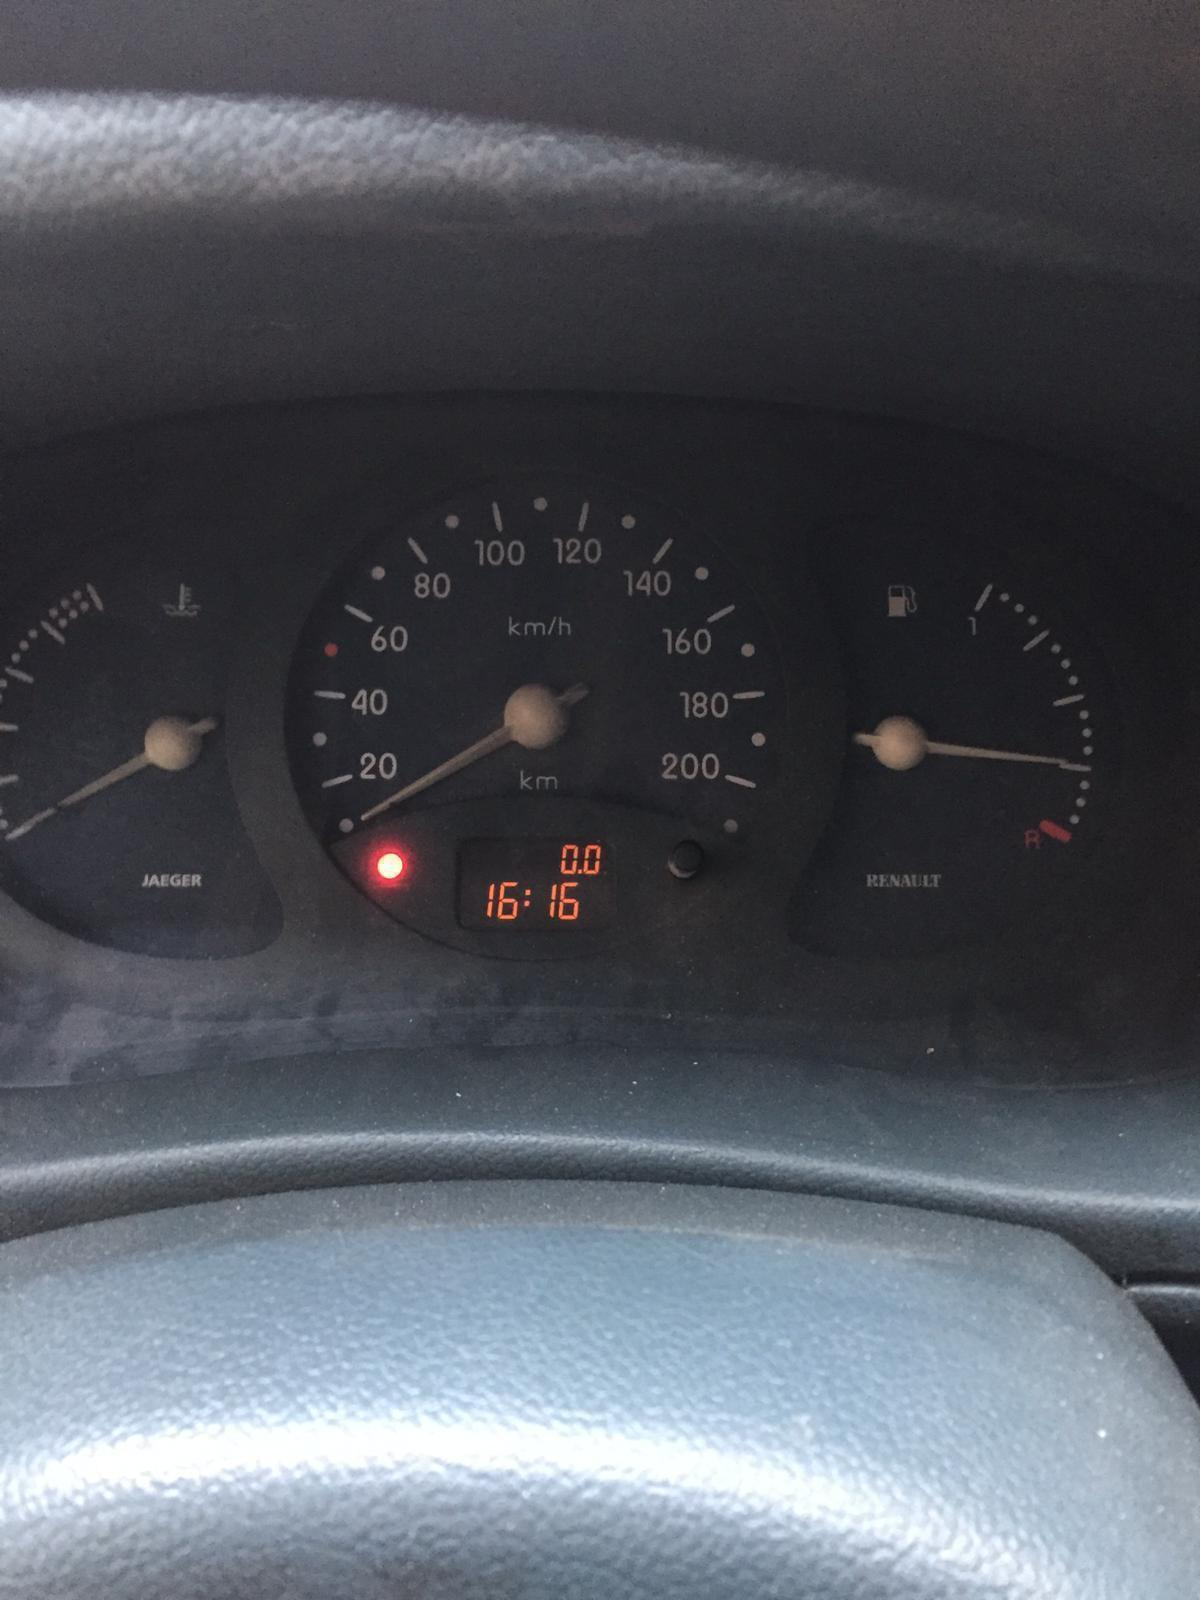,: (577, 868, 582, 874)
0: (558, 844, 579, 876), (582, 844, 601, 874)
1: (485, 882, 494, 918), (548, 883, 557, 918)
6: (495, 881, 519, 920), (557, 881, 579, 920)
X: (522, 888, 532, 908)
odometer: (453, 835, 621, 930)
